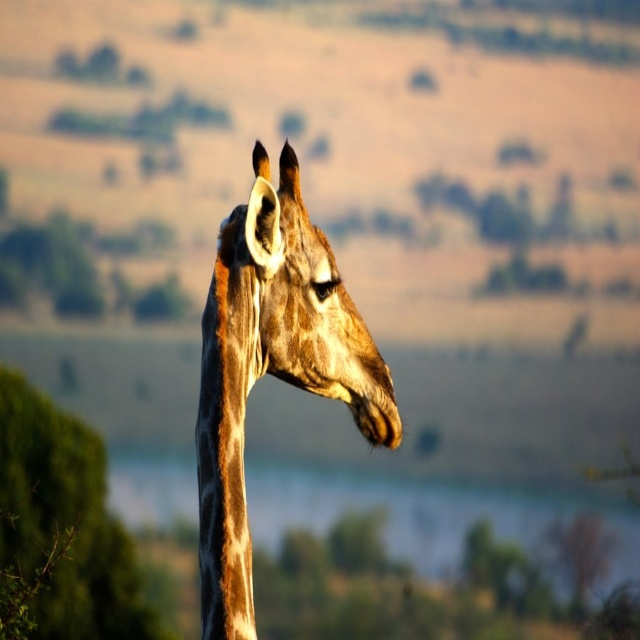Giraffe: (194, 132, 409, 639)
